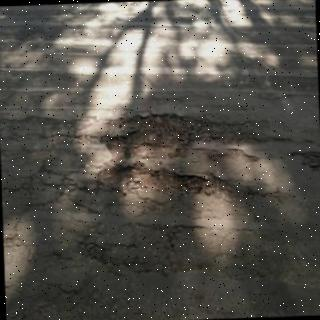pothole: (83, 111, 290, 194)
